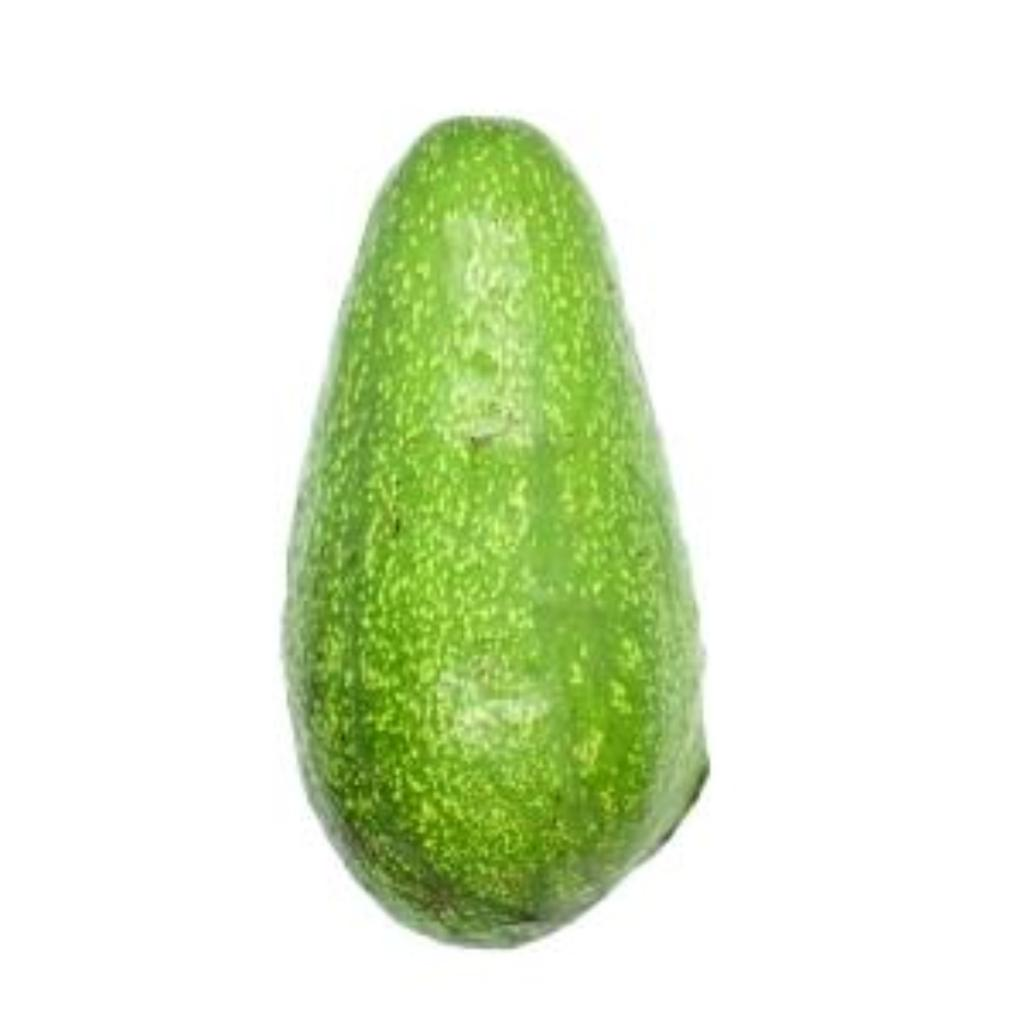cercospora_spot: (278, 90, 732, 964)
